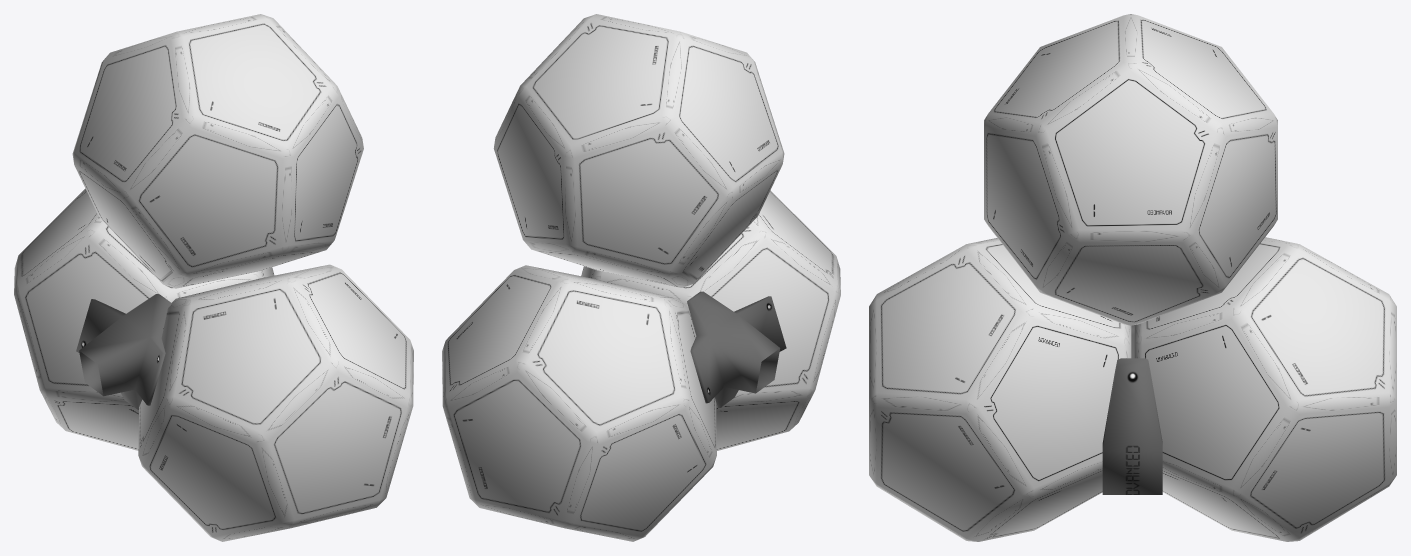
The model's file is AlmacenamientoAvanzado2.fbx.
3 renders of one model, left to right at view 1: azimuth 30°, elevation 25°; view 2: azimuth 150°, elevation 25°; view 3: azimuth 270°, elevation 25°, orthographic. The views are drawn at different scales.
Visible parts, largest first — view 1: Avanzados2; view 2: Avanzados2; view 3: Avanzados2.
Part boxes in pixels (x1,y1,x2,y2): Avanzados2: (14, 14, 413, 541); Avanzados2: (442, 14, 840, 541); Avanzados2: (869, 14, 1396, 541).
Size of the model in its own units: 1.14 by 2.03 by 1.95.
Materials: 1 (1 with a texture image).
